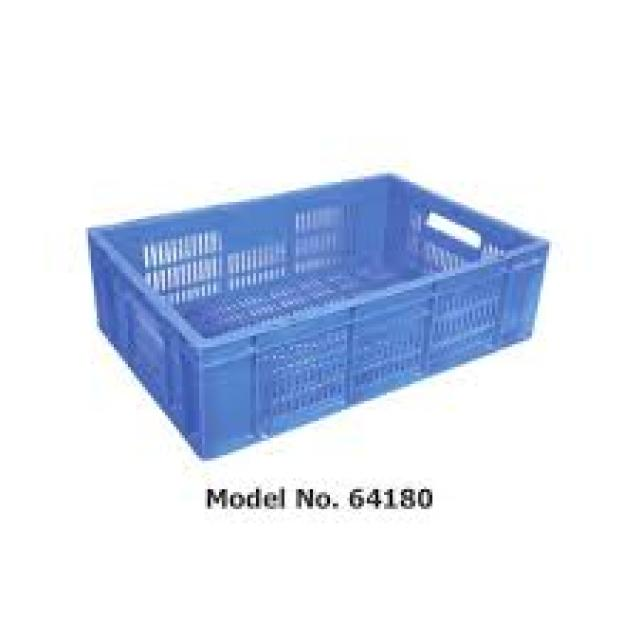basket: (66, 82, 580, 479)
